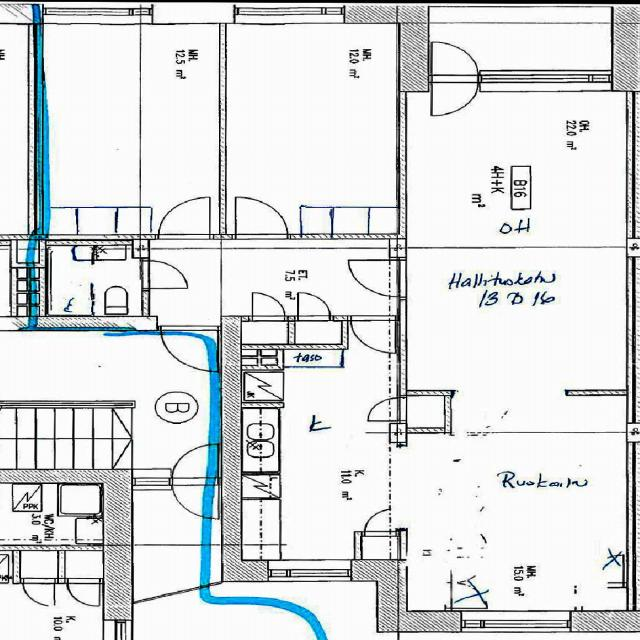door: (160, 316, 217, 372), (432, 36, 478, 92), (432, 70, 478, 126), (235, 197, 288, 240), (158, 198, 209, 240), (347, 260, 406, 296), (350, 316, 394, 353), (141, 260, 188, 288), (365, 397, 406, 421), (252, 293, 284, 321), (297, 293, 329, 321), (364, 508, 395, 536)
